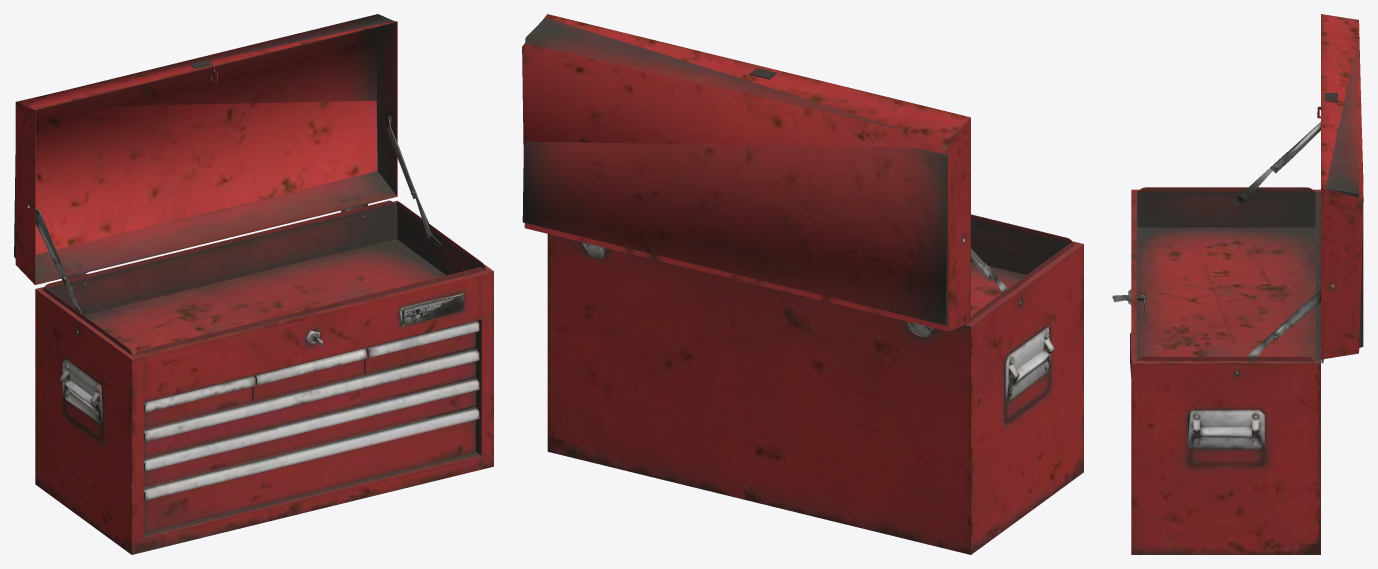
The model's file is toolchest.glb.
3 renders of one model, left to right at view 1: azimuth 30°, elevation 25°; view 2: azimuth 150°, elevation 25°; view 3: azimuth 270°, elevation 25°, orthographic. The views are drawn at different scales.
Parts seen in each view (by area): view 1: metal_tool_chest_chest; view 2: metal_tool_chest_chest; view 3: metal_tool_chest_chest.
Boxes of the visible parts, left/top/right/bottom form: metal_tool_chest_chest: left=14, top=14, right=493, bottom=554; metal_tool_chest_chest: left=522, top=14, right=1083, bottom=554; metal_tool_chest_chest: left=1112, top=14, right=1363, bottom=554.
Bounding box in the file's own units: 0.6847 × 0.6518 × 0.4037.
Materials: 1 (1 with a texture image).
